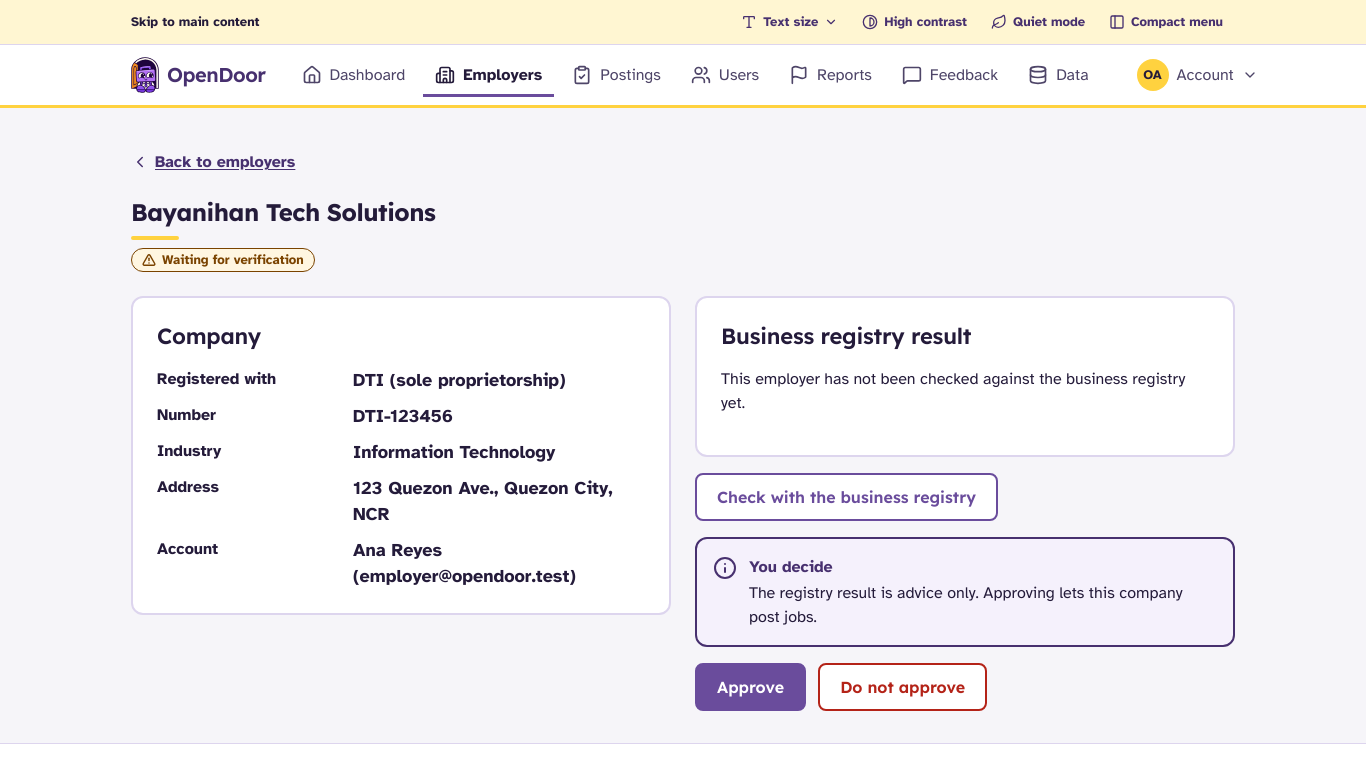
AdminEmployerPage › registry check result is shown and a weak name match is highlighted
The width and height of the screenshot is (1366, 765).
Click the button "Check with the business registry": (846, 497) 695,473 -> 998,521
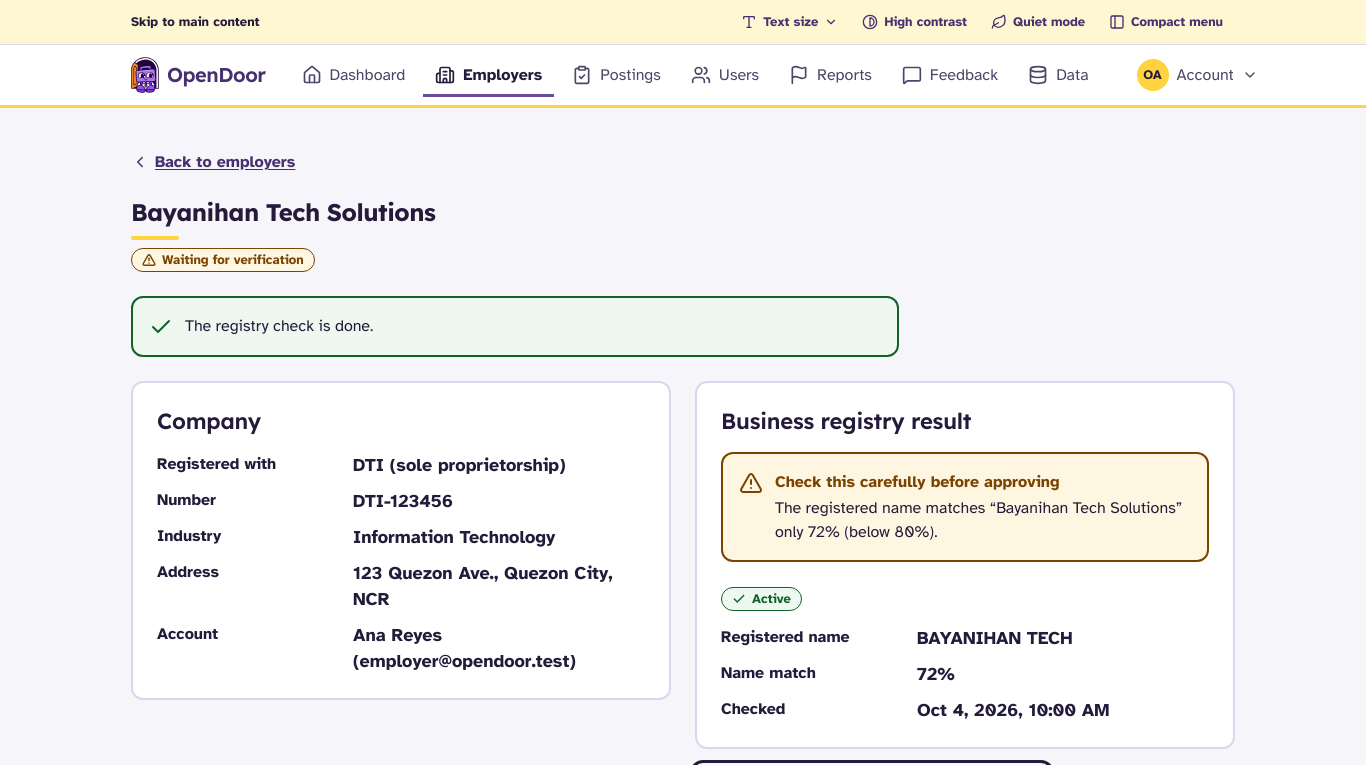
Expected: the text "The registry check is done." is shown, 185,314 -> 373,338
Expected: the text "matches “Bayanihan Tech Solutions” only 72% (below 80%)" is shown, 775,496 -> 1191,544
Expected: the text "BAYANIHAN TECH" is shown, 917,627 -> 1072,649
